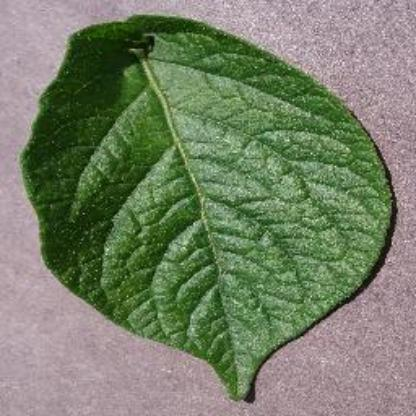Healthy-plant: (20, 10, 396, 402)
